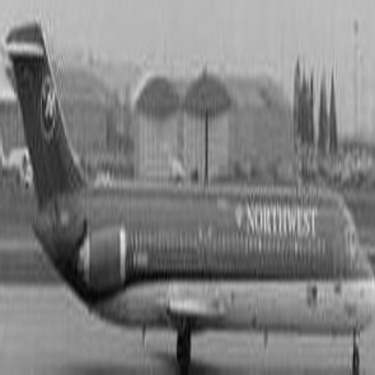airplane: (1, 10, 370, 370)
